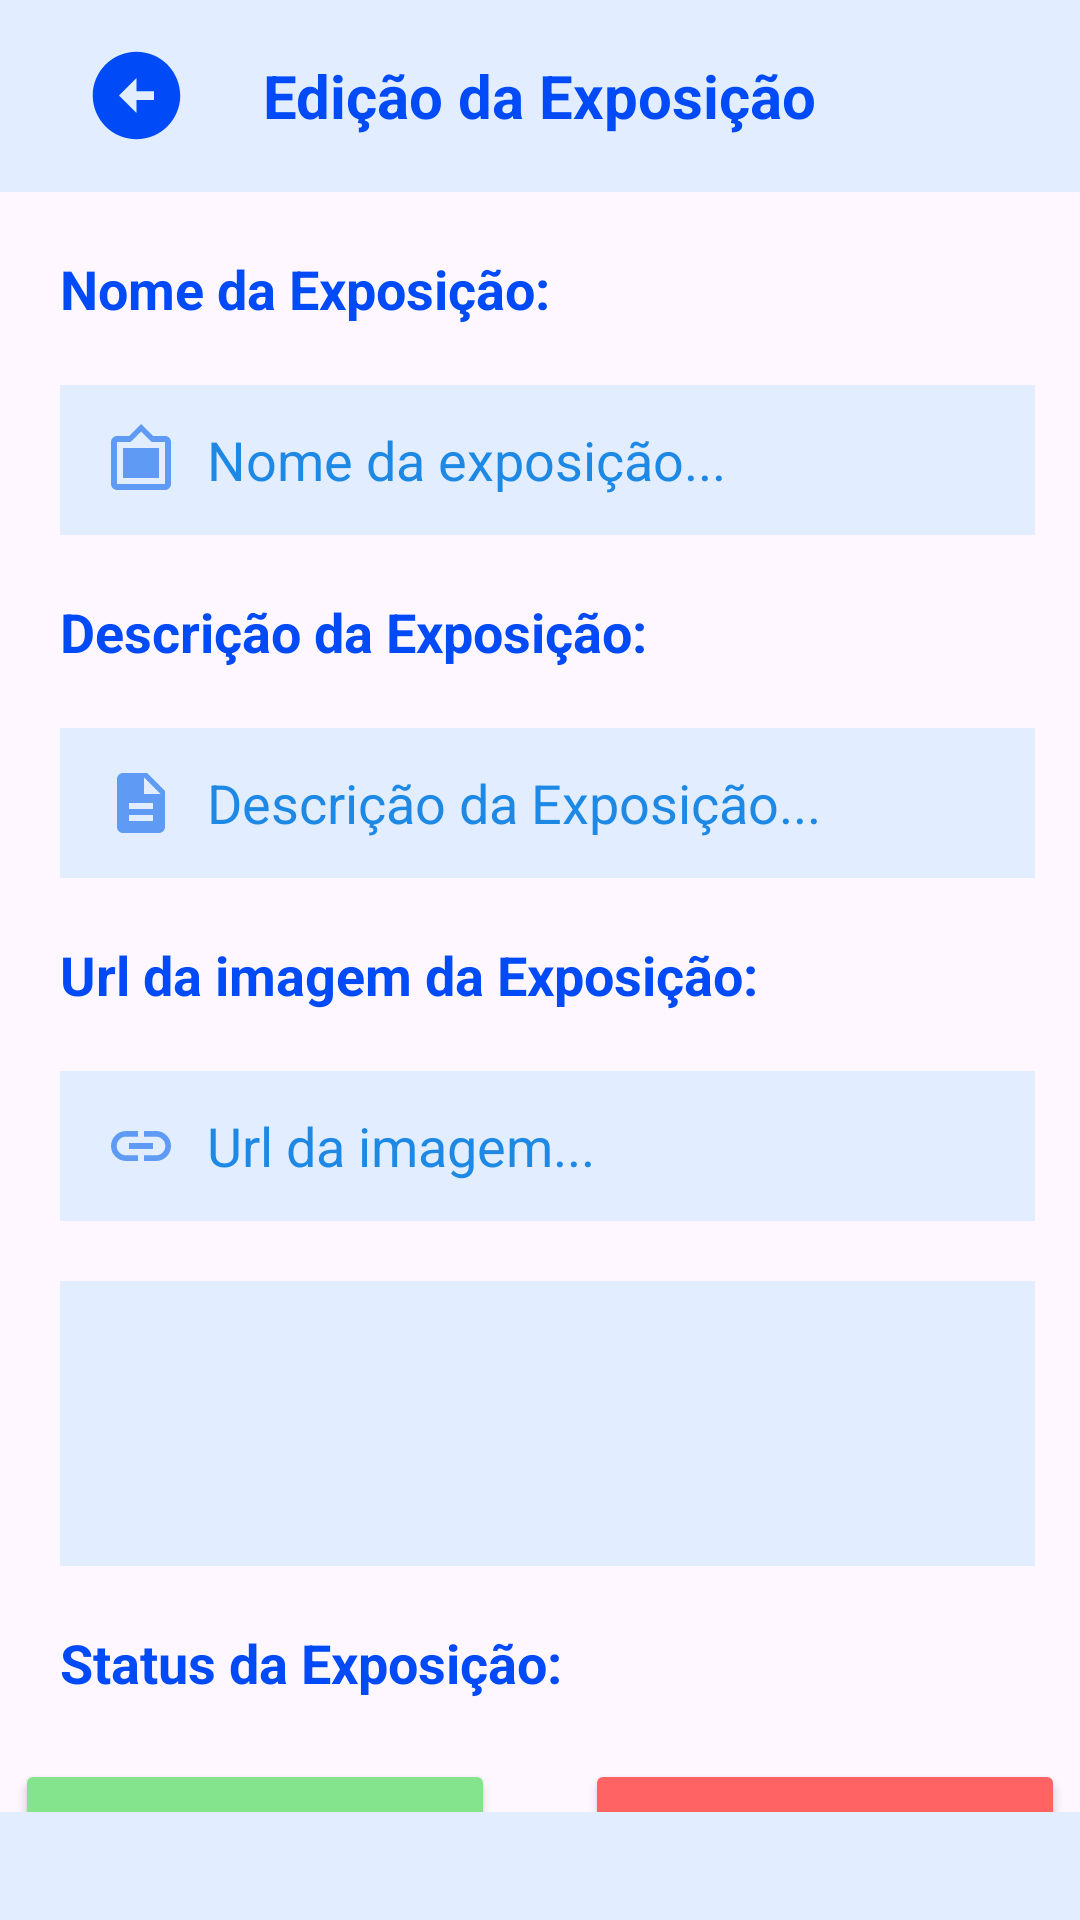

Where icons sit on this 1080*1920 app screen, as (x1,y1,x2,y2):
arrow circle left: (92,51,181,140)
